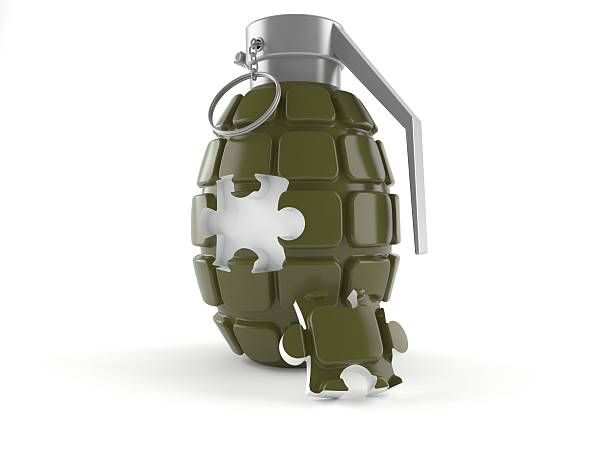e1: (189, 12, 428, 366)
